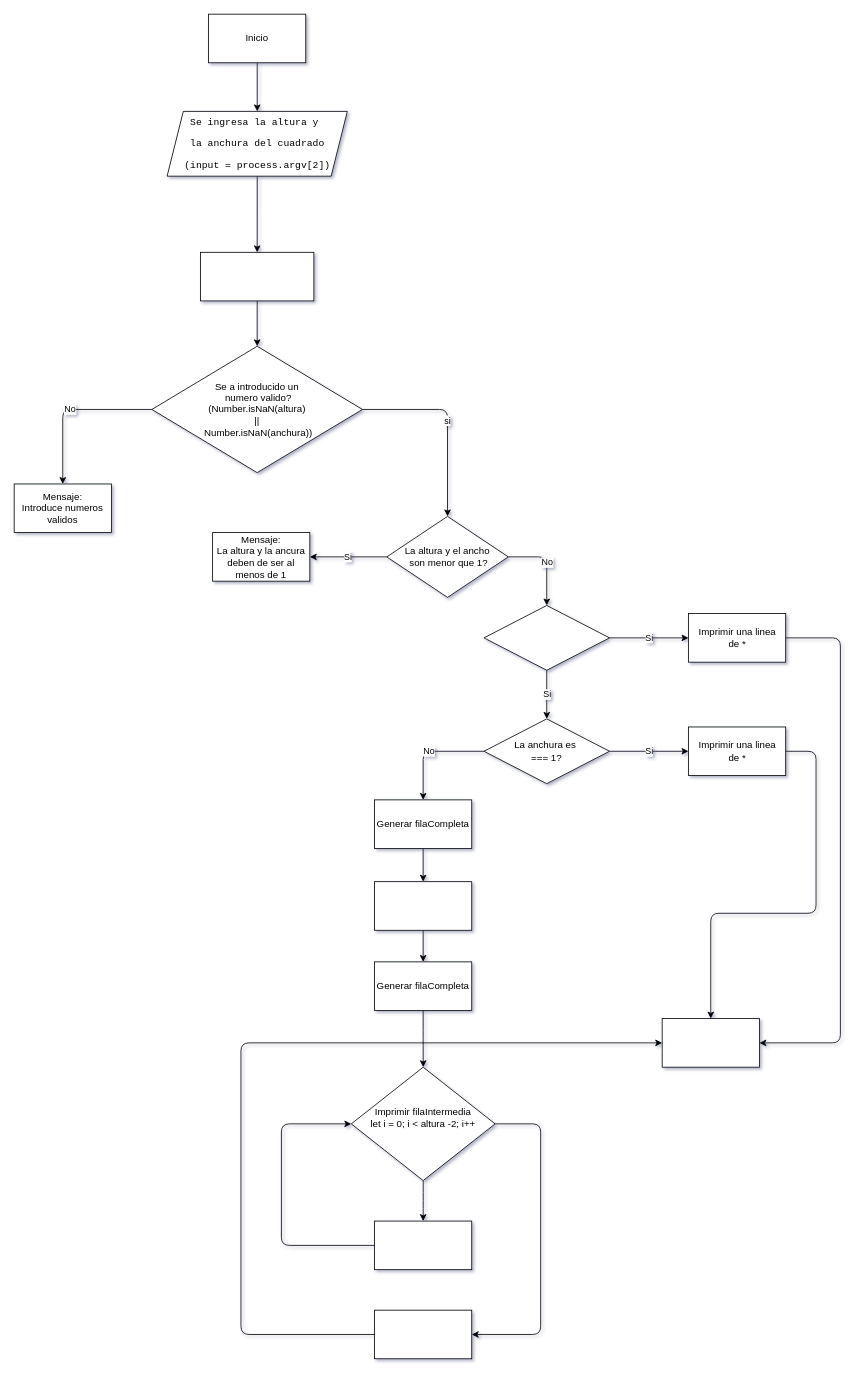
The diagram is 866 pixels wide and 1378 high, and some of its shapes have lost their labels. Here are the shapes that lost their labels. From the top down, the box of each, then its label:
(200, 252, 314, 301): Cinvertir a numero entero (num = parseInt(input))
(483, 605, 610, 670): La altura es === 1?
(374, 881, 472, 930): Generar filaIntermedia
(661, 1018, 759, 1067): Fin
(374, 1220, 472, 1270): Imprimir filaIntermedia
(374, 1309, 472, 1359): Imprimir filaCompleta
